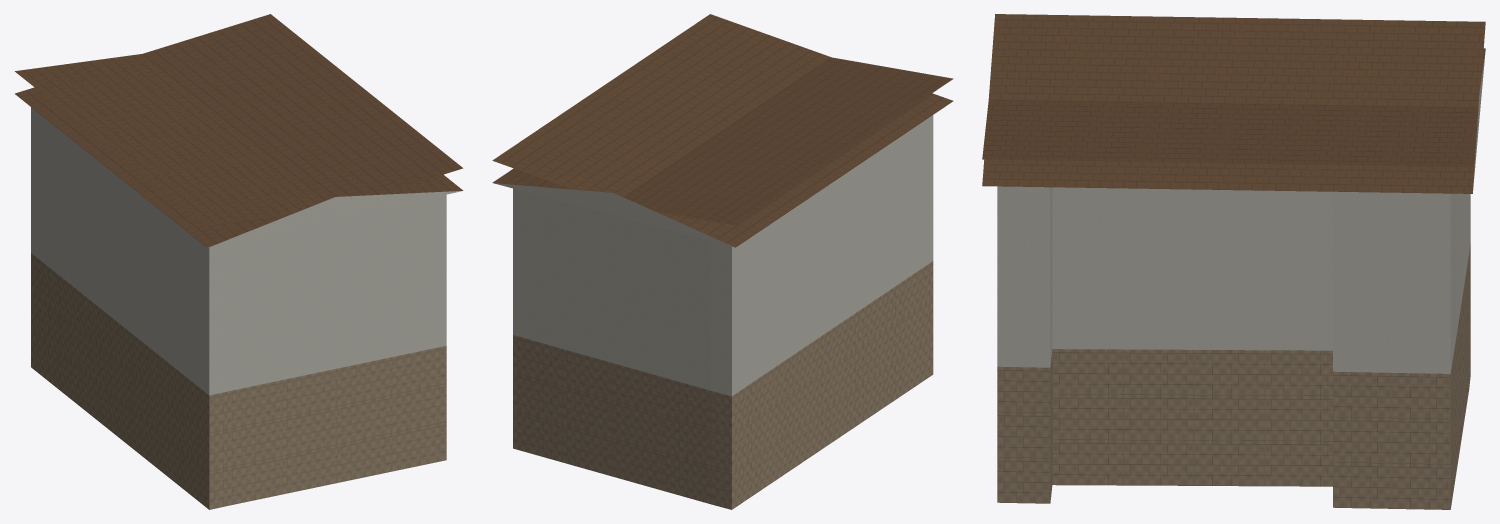
File: bld_c32_44_249.gltf
3 renders of one model, left to right at view 1: azimuth 30°, elevation 25°; view 2: azimuth 150°, elevation 25°; view 3: azimuth 270°, elevation 25°, orthographic. The views are drawn at different scales.
Parts seen in each view (by area): view 1: bld_c32_44_249; view 2: bld_c32_44_249; view 3: bld_c32_44_249.
Part boxes in pixels (x1,y1,x2,y2): bld_c32_44_249: (15,14,463,509); bld_c32_44_249: (492,14,953,509); bld_c32_44_249: (982,14,1485,509).
Bounding box in the file's own units: 12.33 × 13.1 × 17.11.
4 materials, 4 textured.
